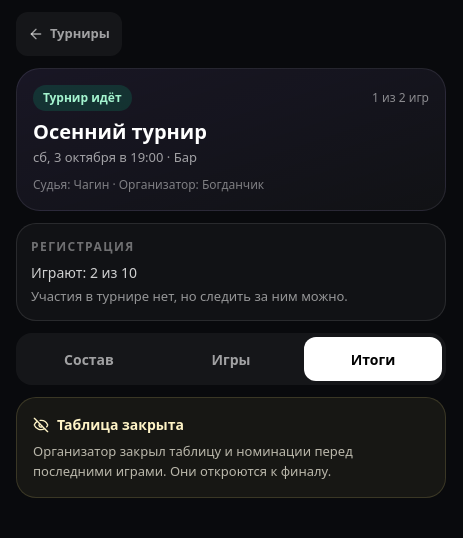
Scenario: player tournament view (owner, 2026-10-06) › shows only a notice instead of the table and nominations while the organizer has closed the table
The image size is (463, 538).
Expected: the element with test id "player-tournament-table-hidden" is shown, top-left (16, 397), bottom-right (446, 498)
Click the tab with test id "player-tournament-tab-roster".
click(89, 359)  # box top-left (20, 337), bottom-right (158, 381)
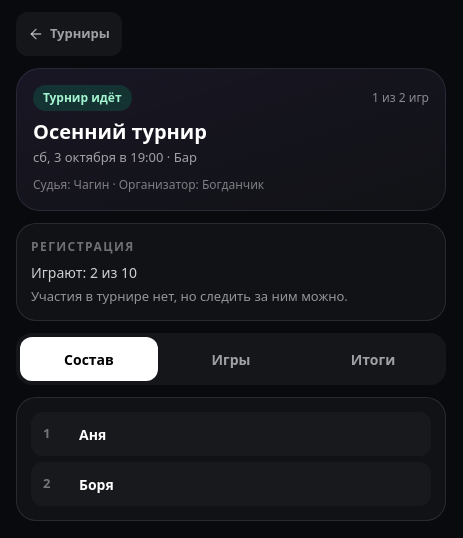
Expected: the element with test id "player-tournament-roster" shows "Аня", top-left (79, 424), bottom-right (106, 444)
